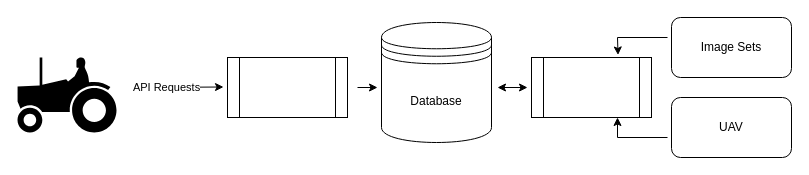
Some shapes in this 809 by 175 pixel diagram are drawn without their labels. The shapes that lost their labels are listed below. From the top down, each one's box as (x1, y1, x2, y2) in pixels, then its label:
(226, 56, 348, 118): Classification Server
(530, 56, 652, 118): Classifier
